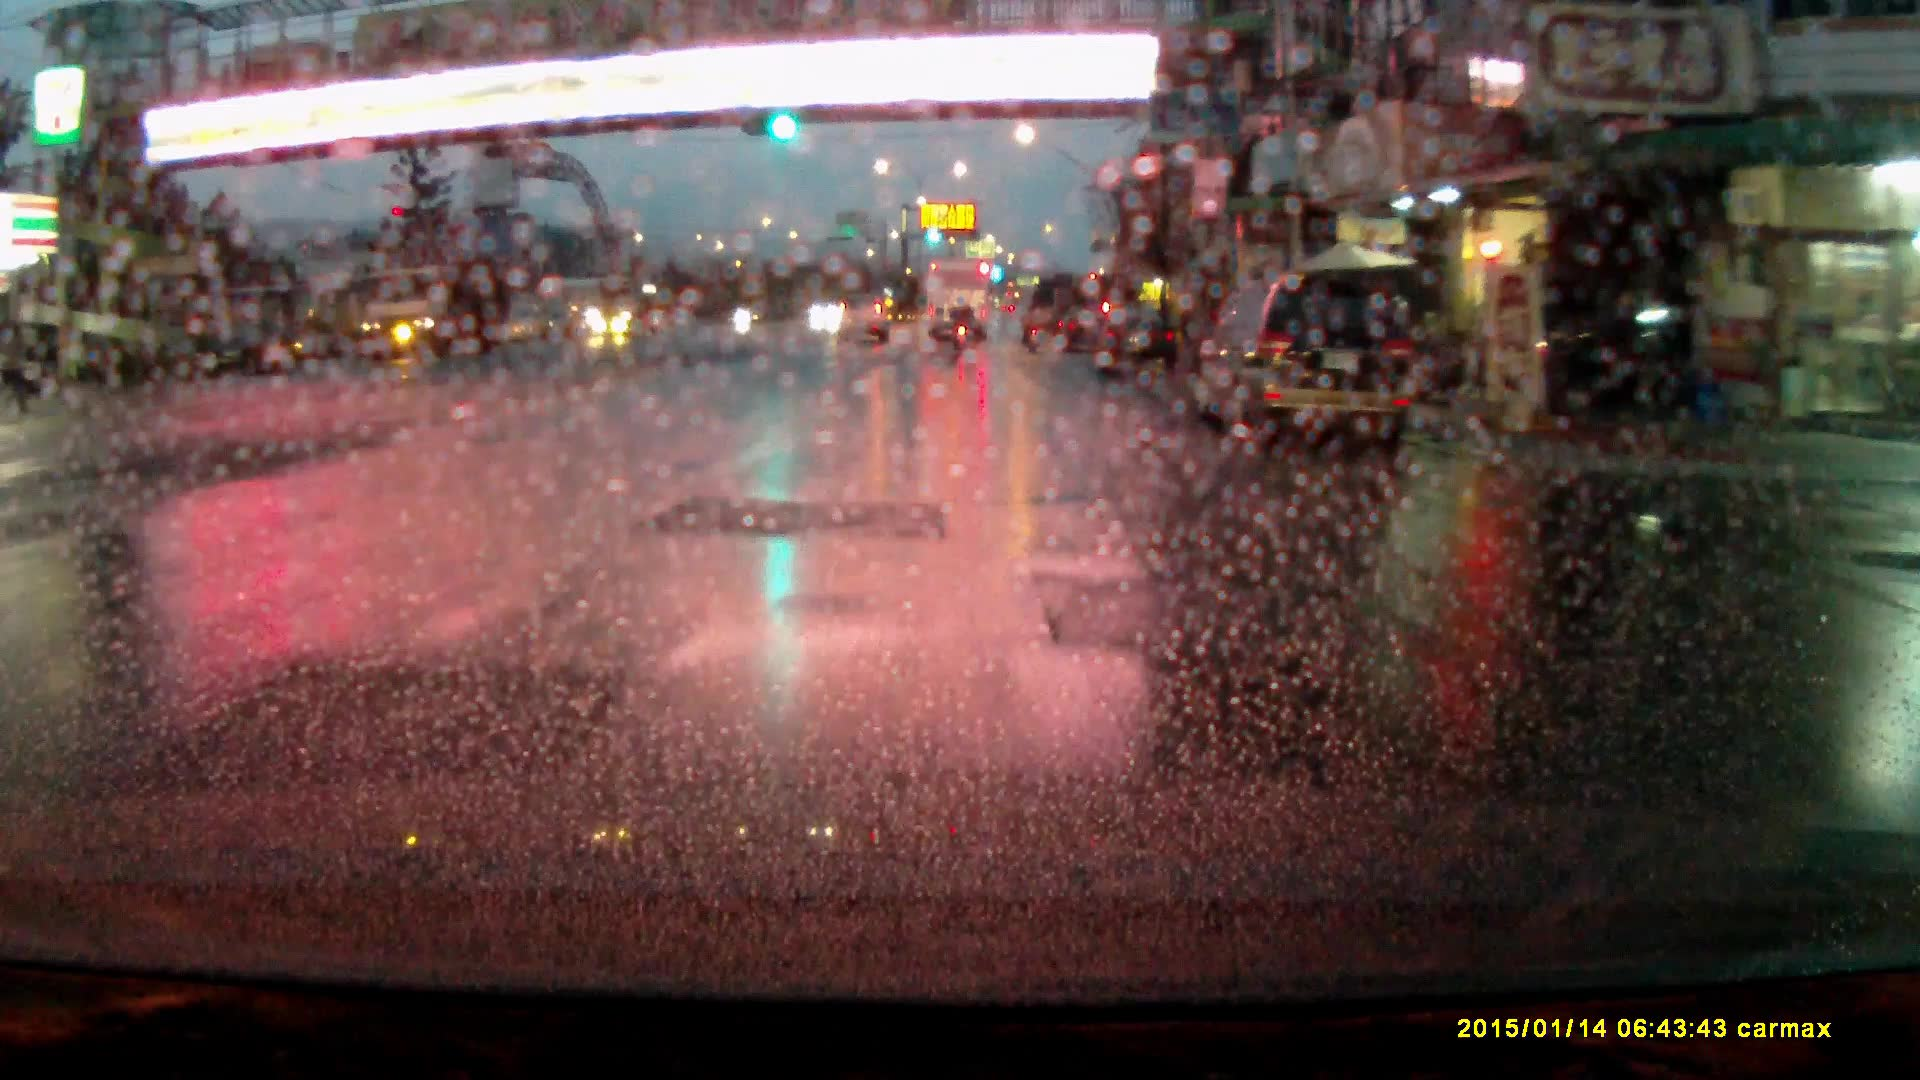rider: (950, 292, 975, 352)
vehicle: (1191, 275, 1416, 445), (1549, 292, 1683, 416), (353, 263, 501, 364), (1094, 308, 1181, 372), (925, 260, 993, 339), (589, 284, 671, 342), (836, 293, 895, 343), (1064, 305, 1112, 353)
